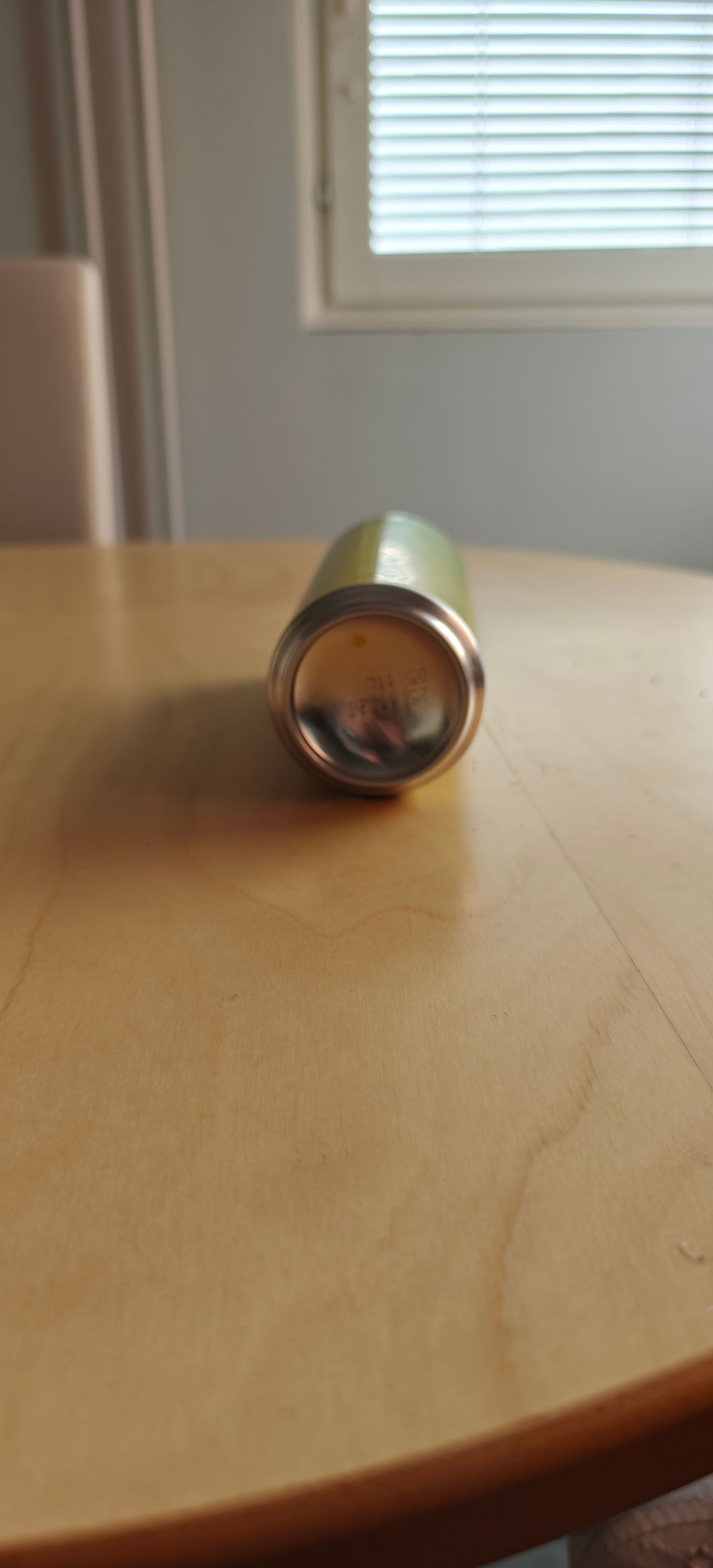Pantburk: (269, 512, 485, 796)
